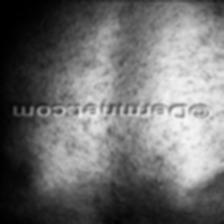Toxin: (12, 119, 180, 192)
